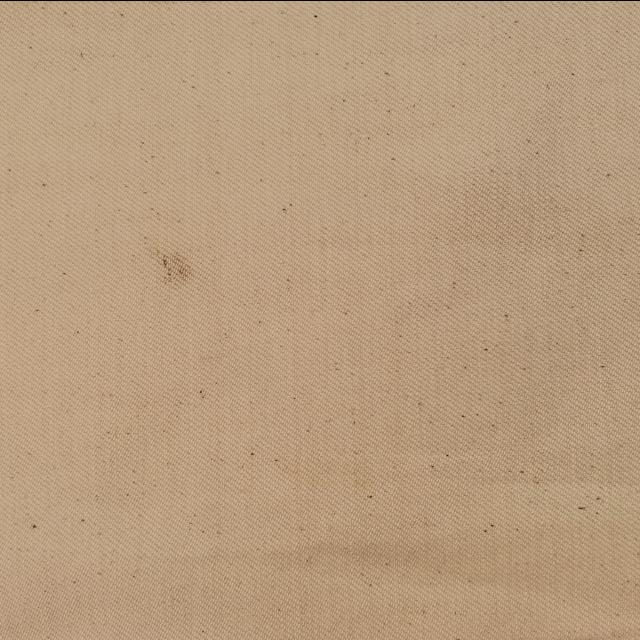taaaches: (130, 240, 208, 292)
